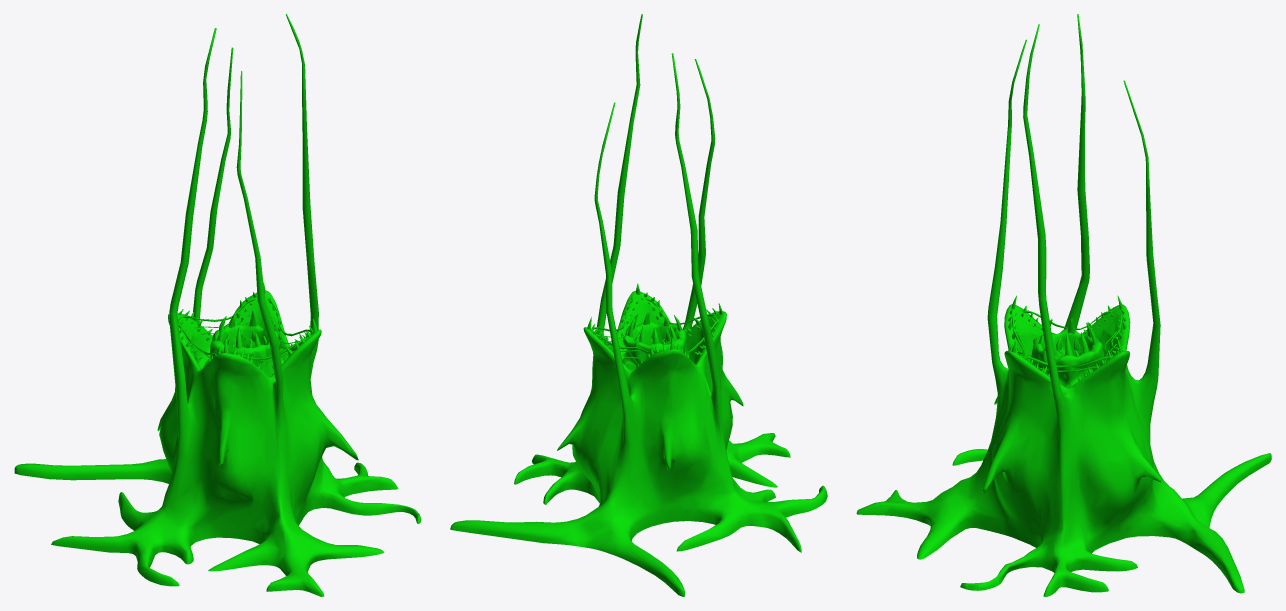
Rendered from plant.obj.
3 views of the same model, side by side, from view 1: azimuth 30°, elevation 25°; view 2: azimuth 150°, elevation 25°; view 3: azimuth 270°, elevation 25° (orthographic). The views are drawn at different scales.
Parts seen in each view (by area): view 1: plant; view 2: plant; view 3: plant.
Boxes of the visible parts, <box> form: plant: <box>14,14,421,596</box>; plant: <box>450,14,827,596</box>; plant: <box>856,14,1271,596</box>.
Bounding box in the file's own units: 3.32 × 5.05 × 3.67.
